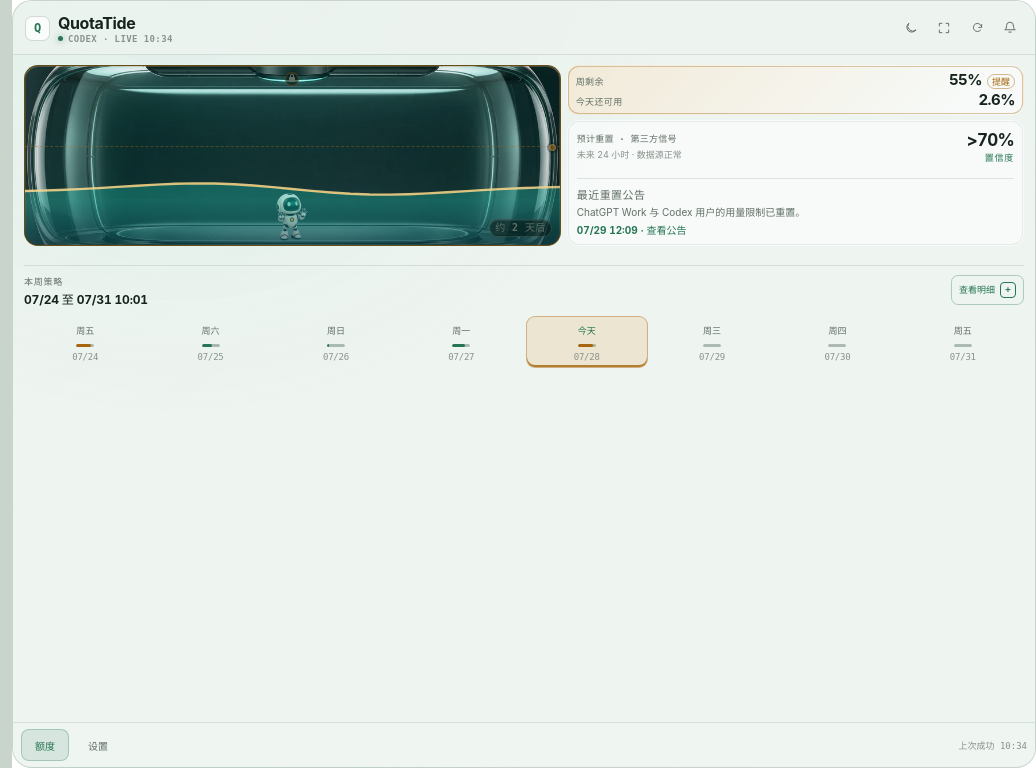
Test: Weekly Ledger overview › moves daily warnings into the available-today card and usage rail
Click the button "查看明细".
click(988, 290)  # box [951,275,1024,305]
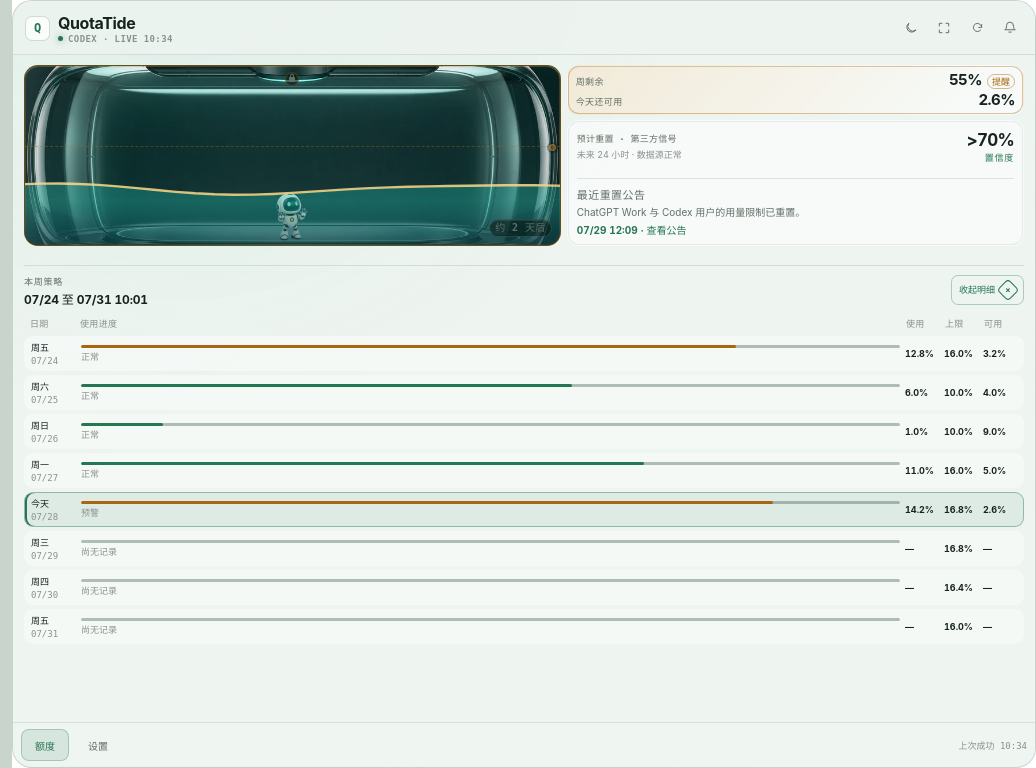
Result: the element named "整周额度明细" shows "14.2%" at [905,504,934,515]
Result: the number of list items is 8
